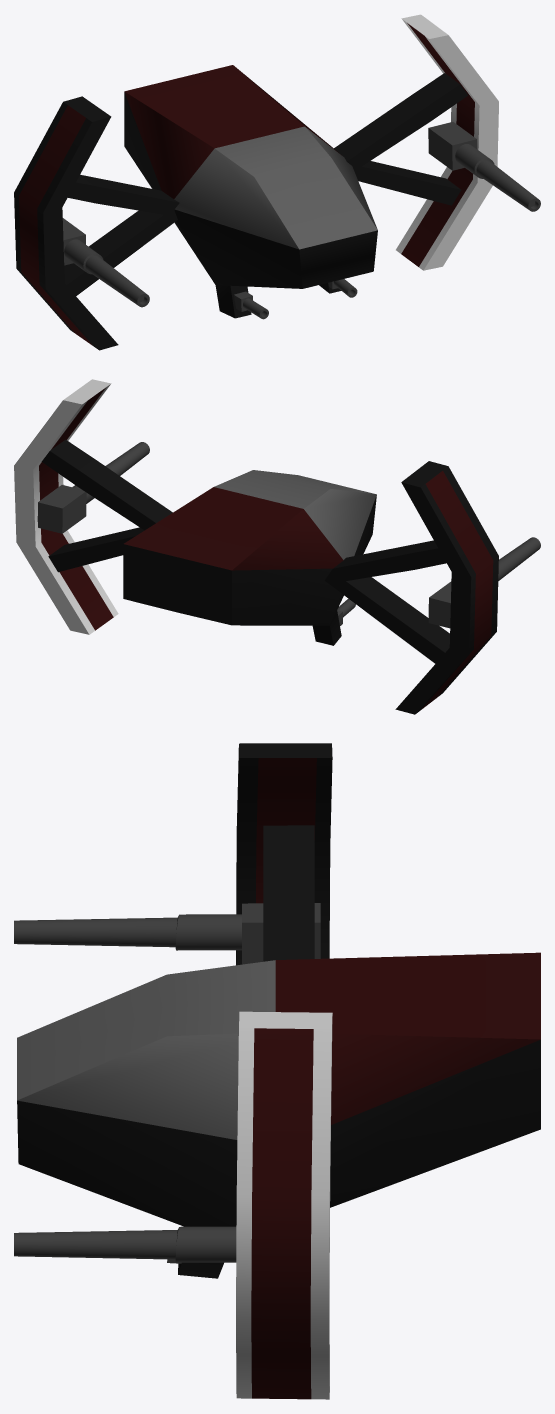
Rendered from enemy_spaceship.obj.
3 renders of one model, top to bottom at view 1: azimuth 30°, elevation 25°; view 2: azimuth 150°, elevation 25°; view 3: azimuth 270°, elevation 25°, orthographic. The views are drawn at different scales.
Parts seen in each view (by area): view 1: enemy_ship1; view 2: enemy_ship1; view 3: enemy_ship1.
Boxes of the visible parts, x1,y1,x2,y2 form: enemy_ship1: [14, 14, 540, 350]; enemy_ship1: [14, 379, 540, 714]; enemy_ship1: [14, 743, 540, 1399].
Bounding box in the file's own units: 10.03 × 4.83 × 6.12.
